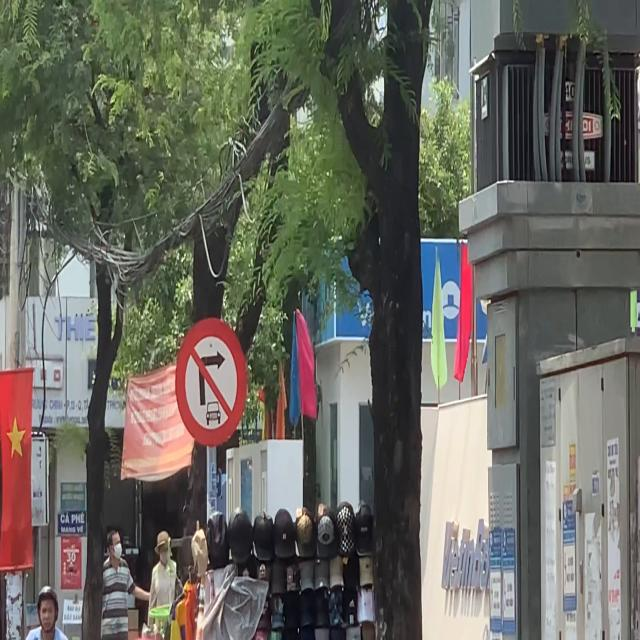Cam re phai: (175, 317, 248, 444)
